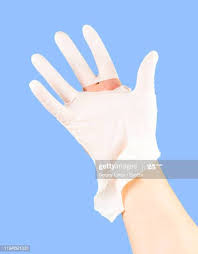defected: (18, 26, 192, 178)
